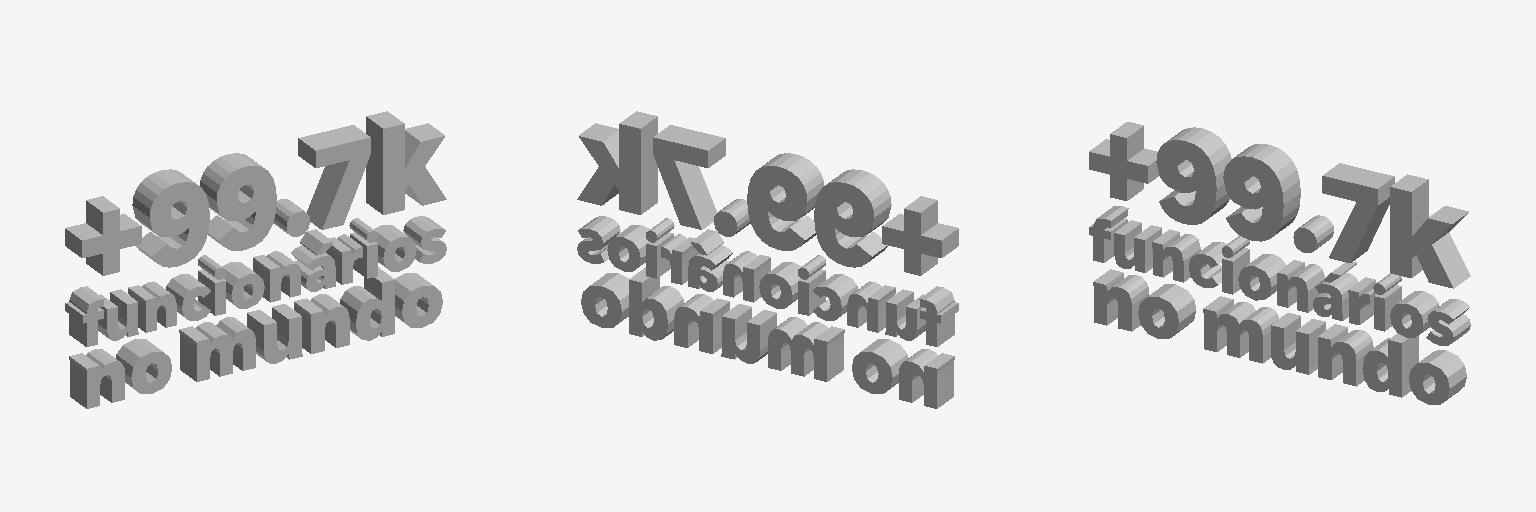
3 views of the same model, side by side, from view 1: azimuth 30°, elevation 25°; view 2: azimuth 150°, elevation 25°; view 3: azimuth 330°, elevation 25° (orthographic).
Parts seen in each view (by area): view 1: obj_0; view 2: obj_0; view 3: obj_0.
Part boxes in pixels (x1,y1,x2,y2): obj_0: (65,111,446,408); obj_0: (577,111,958,408); obj_0: (1089,122,1470,404).
Size of the model in its own units: 697 by 381 by 57.